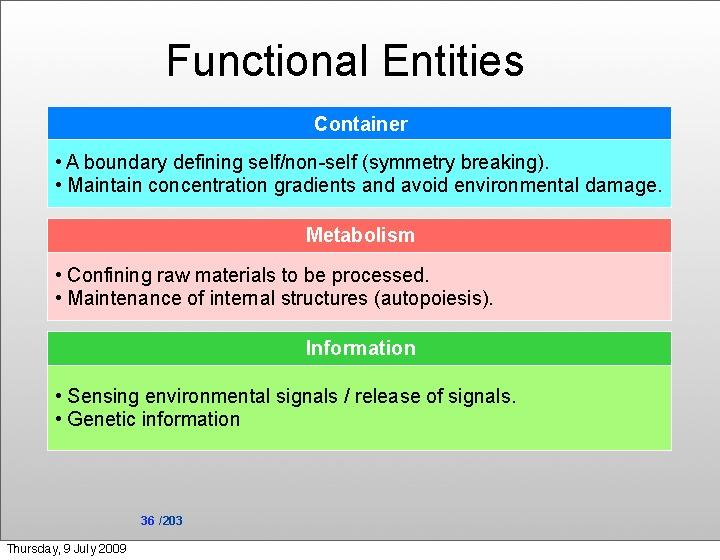paragraph: (45, 99, 680, 456)
subtitle: (291, 333, 434, 367), (299, 217, 426, 252), (305, 108, 416, 143)
title: (156, 25, 532, 90)
